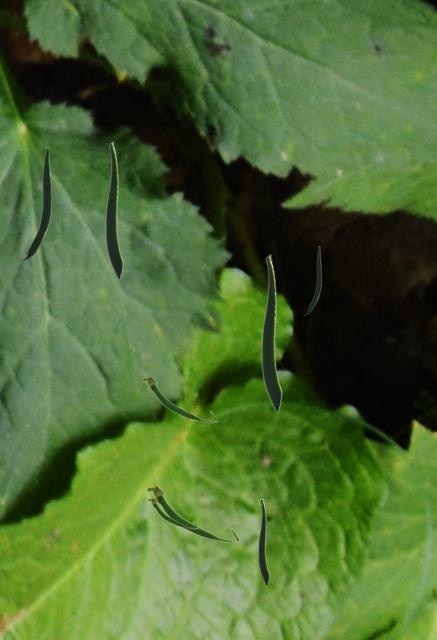french_bean: (145, 484, 239, 542), (141, 375, 217, 422), (20, 147, 50, 260), (261, 254, 281, 412), (105, 141, 122, 279), (147, 497, 197, 528), (304, 246, 320, 314), (258, 498, 268, 585)
